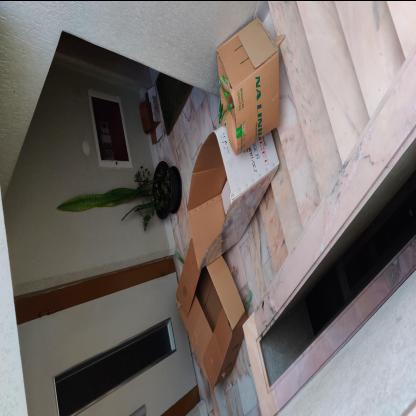karton: (188, 117, 282, 271), (177, 231, 250, 393), (217, 16, 287, 156)
